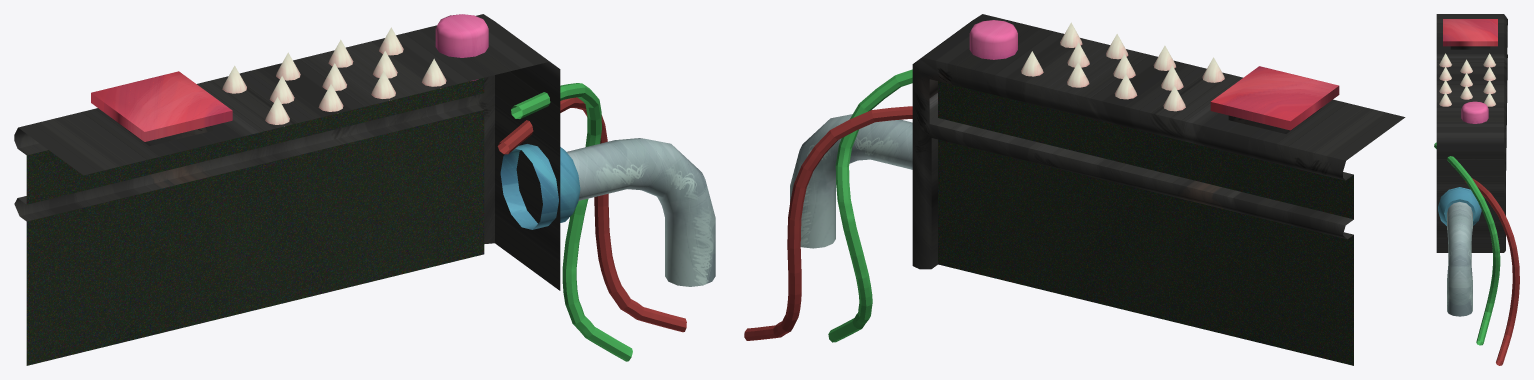
The model's file is FuelUI_Dashboard.fbx.
3 views of the same model, side by side, from view 1: azimuth 30°, elevation 25°; view 2: azimuth 150°, elevation 25°; view 3: azimuth 270°, elevation 25° (orthographic). The views are drawn at different scales.
Parts seen in each view (by area): view 1: Fuel UI; view 2: Fuel UI; view 3: Fuel UI.
Part boxes in pixels (<box>): Fuel UI: <box>14,14,715,365</box>; Fuel UI: <box>744,14,1405,365</box>; Fuel UI: <box>1434,14,1519,365</box>.
Size of the model in its own units: 1108 by 625 by 242.
